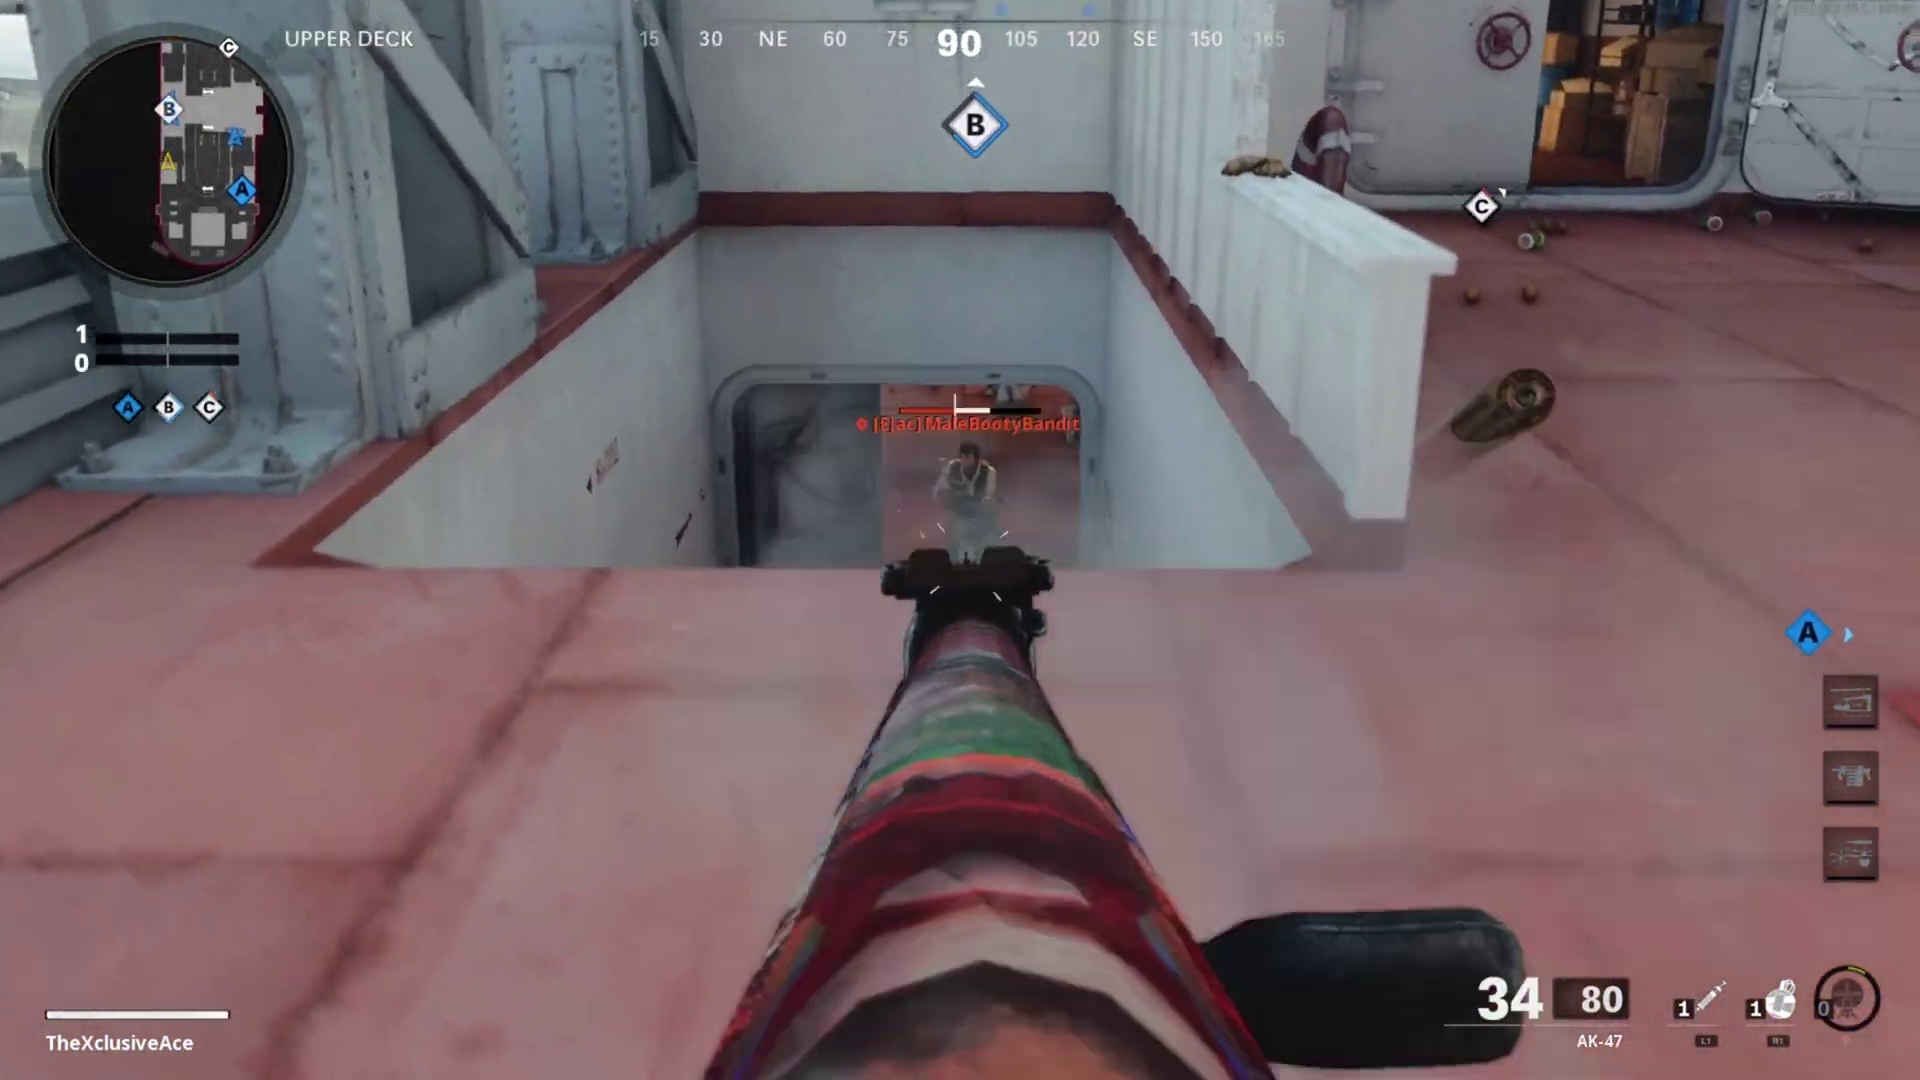head: (950, 442, 990, 486)
person: (931, 438, 997, 562)
